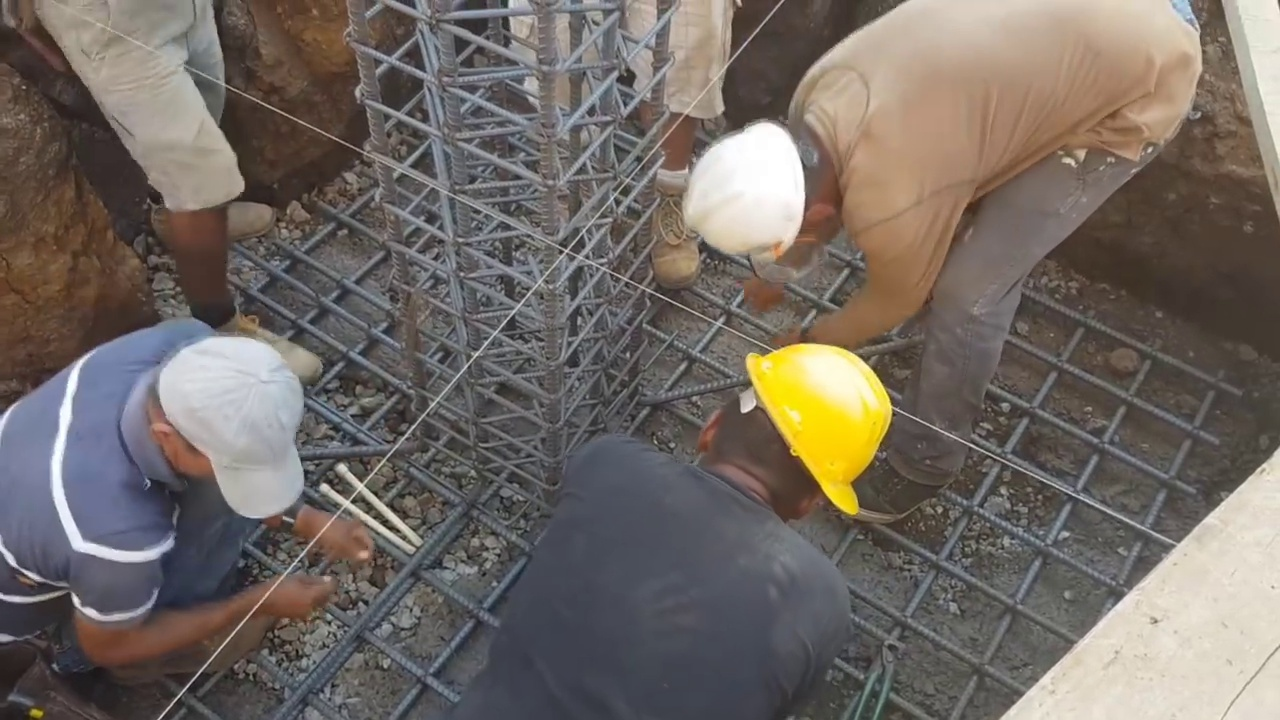helmet: (743, 344, 892, 519), (686, 120, 807, 274)
helmet-off: (131, 325, 299, 531)
helmet-on: (691, 344, 895, 526), (687, 114, 853, 281)
person: (680, 19, 1240, 509), (448, 340, 897, 710), (13, 311, 376, 698), (0, 0, 282, 385)
